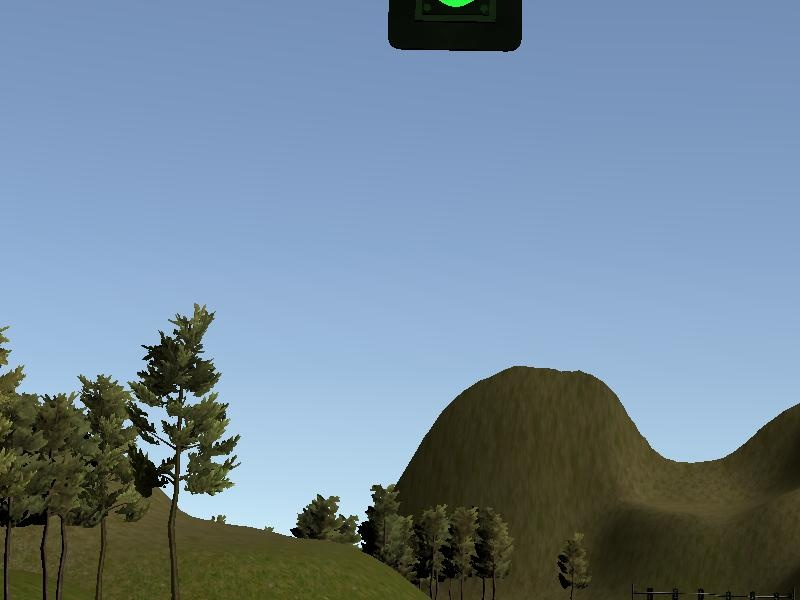traffic_light_green: (1, 1, 800, 58)
